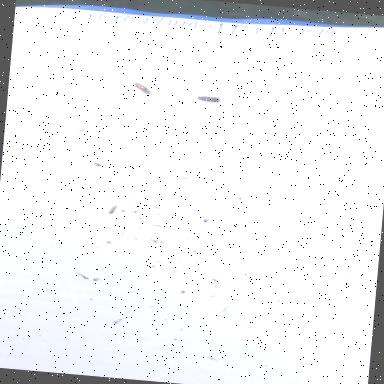pbw: (187, 89, 228, 111), (125, 77, 158, 100)
